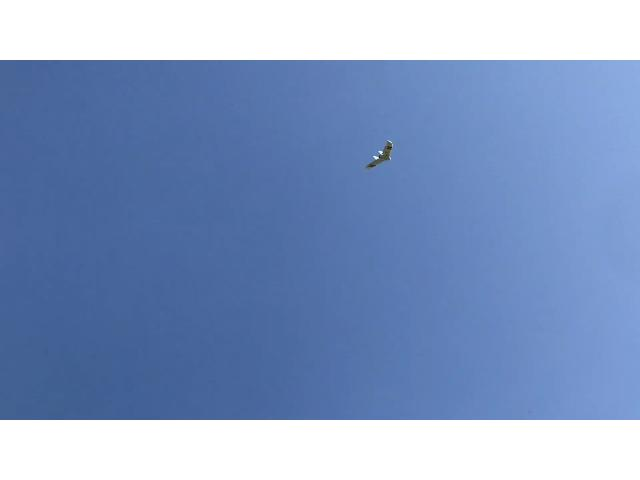Anti-Drone: (362, 133, 400, 178)
